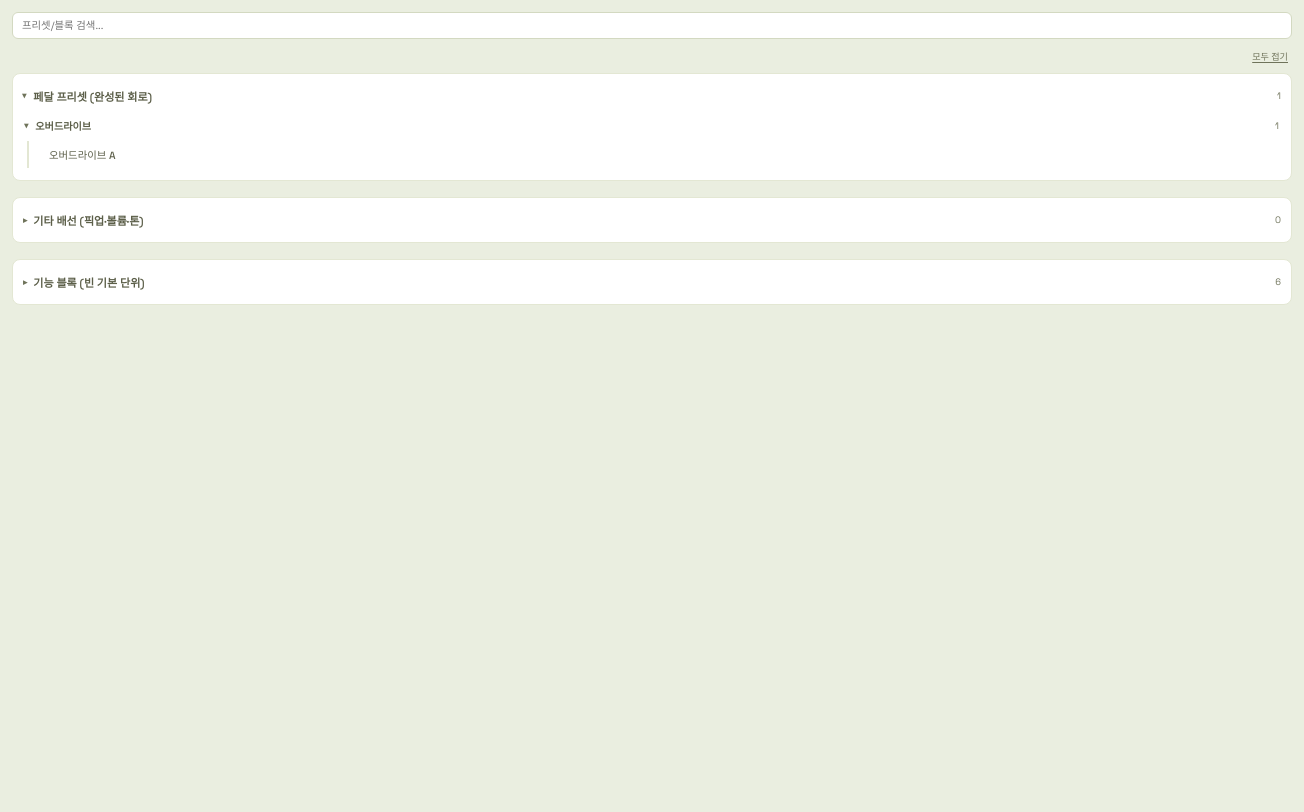
Test: LibraryExplorer › 모두 접기 collapses every top section and category, and toggles to 모두 펼치기
Expected: the text "오버드라이브 A" is shown, 49,149 -> 116,162
What coordinates should you click on to do the following:
click the button "모두 접기"
I would click on:
 (1270, 56)
Its box is 1248,47 -> 1292,65.
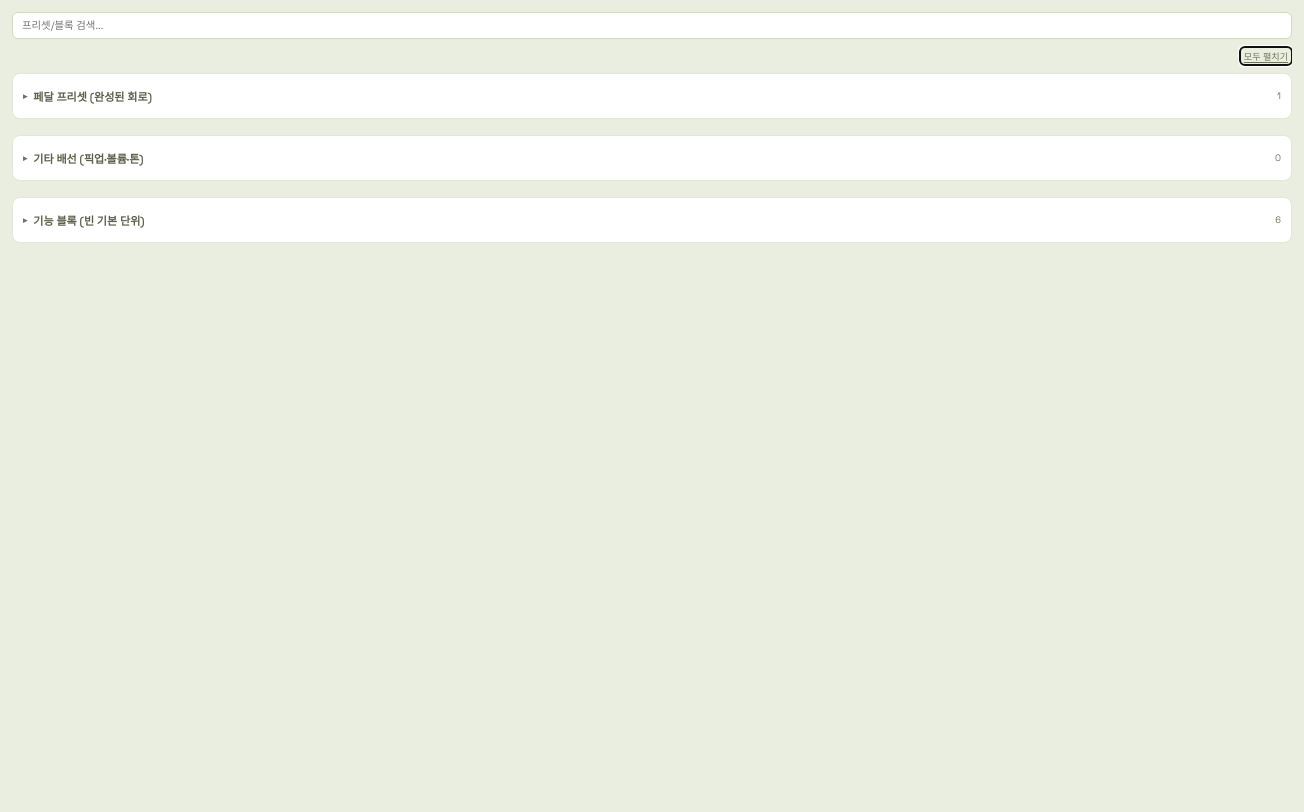
Now the button "오버드라이브 A" is gone
Now the button "오버드라이브" is gone
Now the button "모두 펼치기" is shown
What coordinates should you click on to do the following:
click the button "모두 펼치기"
I would click on:
 (1266, 56)
Its box is 1240,47 -> 1292,65.
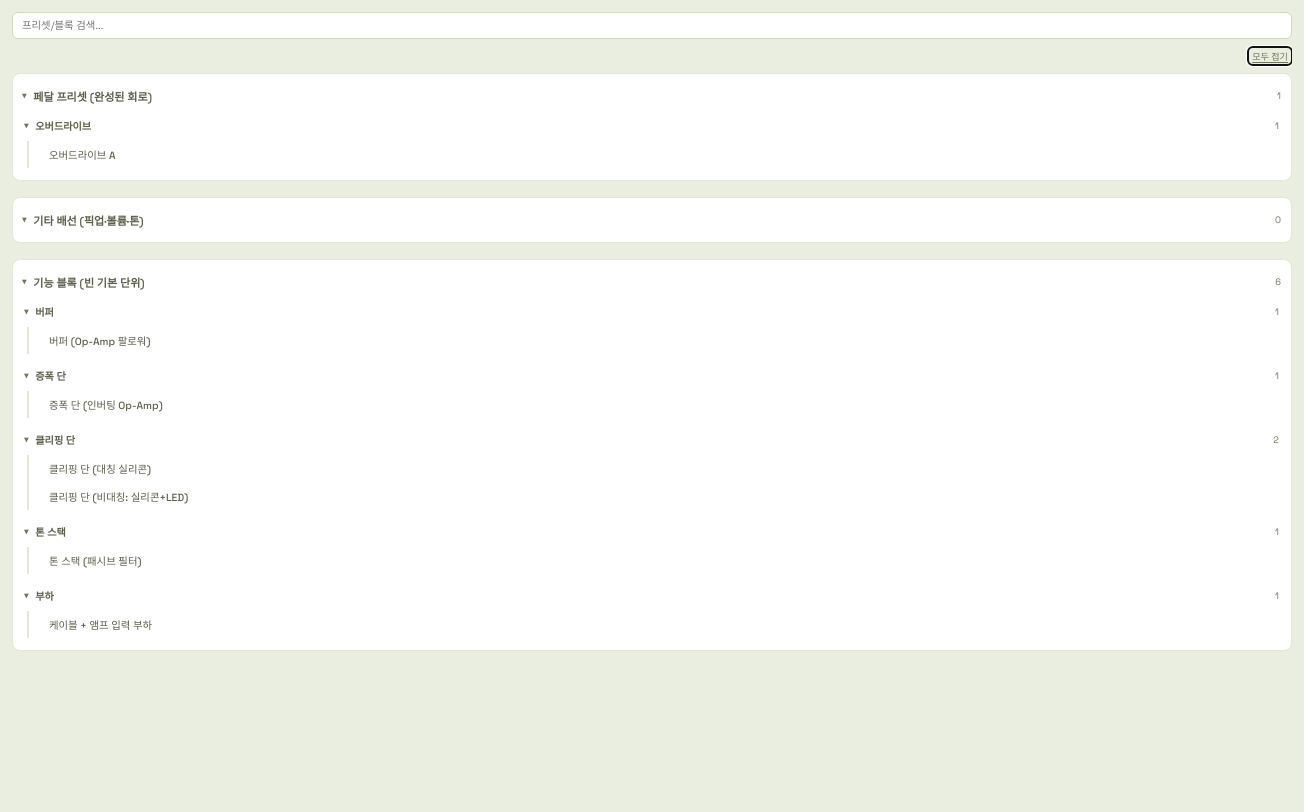
Now the text "오버드라이브 A" is shown, box 49,149 -> 116,162
